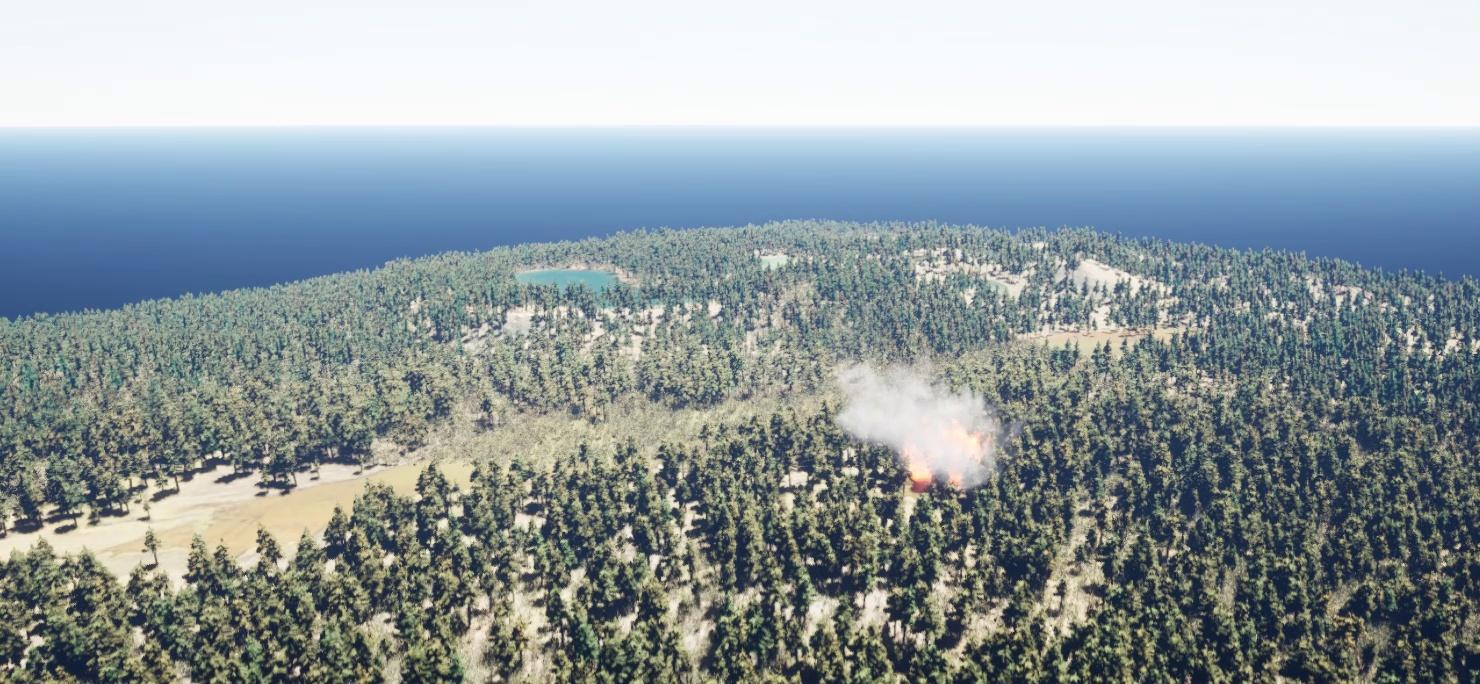fire: (898, 427, 977, 486)
smoke: (826, 363, 985, 475)
